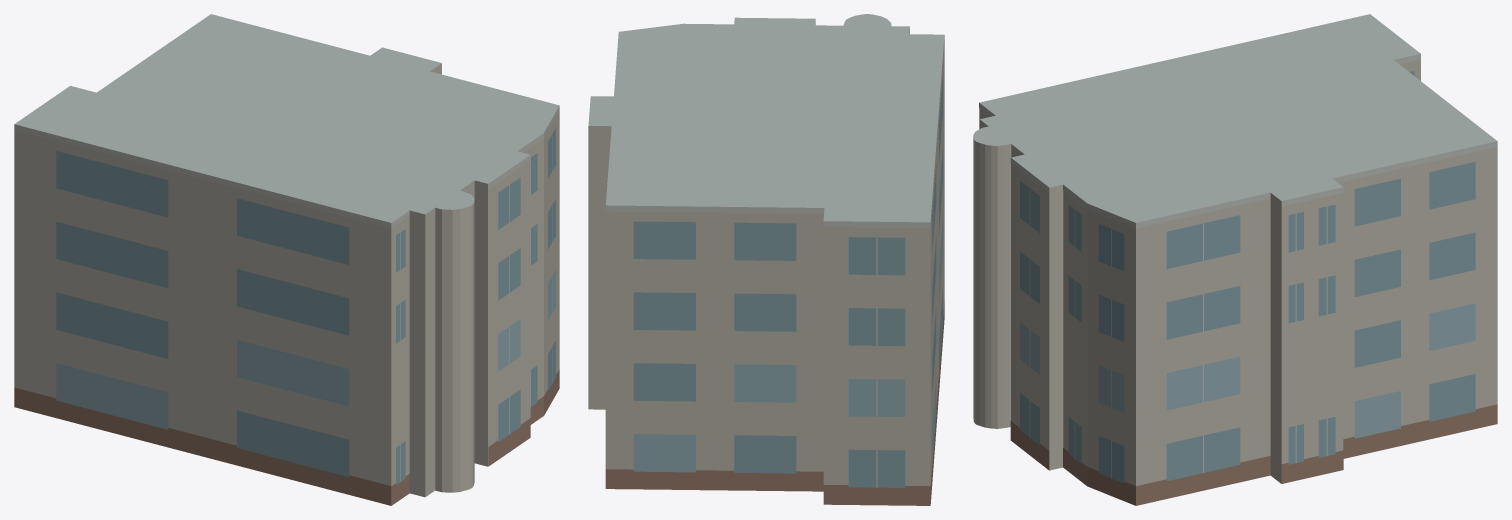
Rendered from survey-upis-32864345.glb.
The picture shows the model from 3 angles, left to right: view 1: azimuth 30°, elevation 25°; view 2: azimuth 150°, elevation 25°; view 3: azimuth 270°, elevation 25°; orthographic projection.
Visible parts, largest first — view 1: survey-upis-32864345.tmp; view 2: survey-upis-32864345.tmp; view 3: survey-upis-32864345.tmp.
Part boxes in pixels (x1,y1,x2,y2): survey-upis-32864345.tmp: (14,14,559,505); survey-upis-32864345.tmp: (588,14,944,505); survey-upis-32864345.tmp: (973,14,1497,505).
Size of the model in its own units: 19.34 by 12.2 by 20.49.
